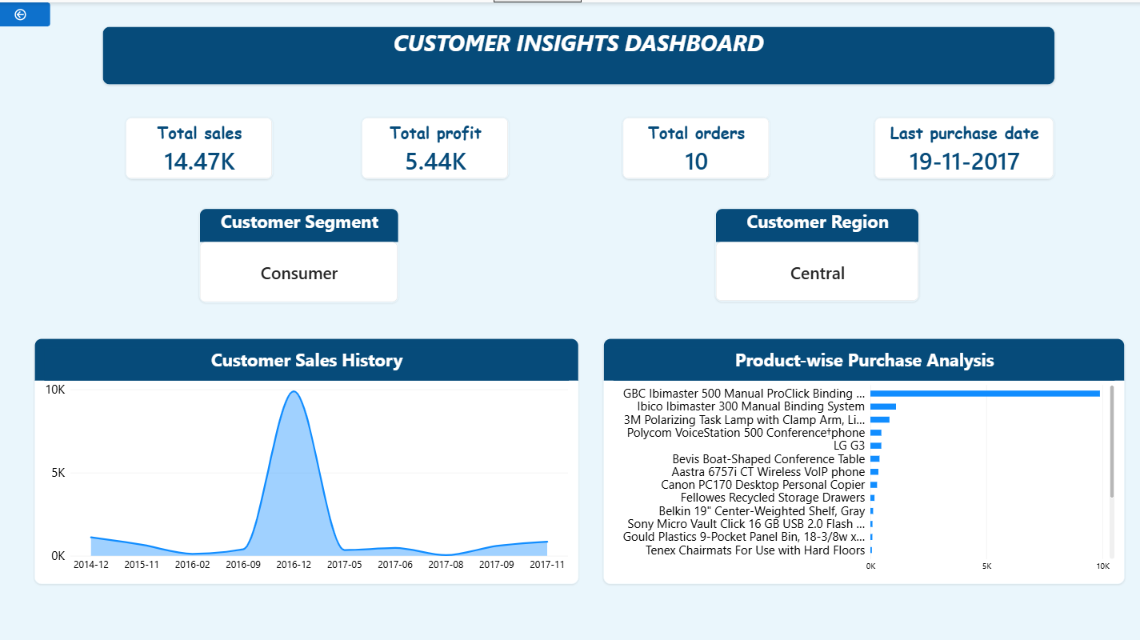

The page's visual inventory and layout, read from the dashboard file:
{"tool":"powerbi","page":{"name":"customer insights","canvas":[1920,1080],"ordinal":2},"visuals":[{"type":"actionButton","box":[0,0,100,40],"z":0},{"type":"textbox","box":[186.4,39.8,1590.7,97.7],"z":1},{"type":"cardVisual","fields":{"Data":["Superstore.Total sales"]},"box":[226.2,191.8,246.1,103.2],"z":2},{"type":"cardVisual","fields":{"Data":["Superstore.Total profit"]},"box":[618.9,191.8,246.1,103.2],"z":3},{"type":"cardVisual","fields":{"Data":["Superstore.Total orders"]},"box":[1055,191.8,246.1,103.2],"z":4},{"type":"cardVisual","fields":{"Data":["Date Table.Last purchase date"]},"box":[1476.7,191.8,300.4,103.2],"z":5},{"type":"lineChart","title":"Customer Sales History","fields":{"Category":["Date Table.Year-Month"],"Y":["Superstore.Total sales"]},"box":[74.2,561,908.4,410.8],"z":6},{"type":"clusteredBarChart","title":"Product-wise Purchase Analysis","fields":{"Category":["Superstore.Product Name"],"Y":["Superstore.Total sales"]},"box":[1024.3,561,870.4,410.8],"z":7},{"type":"cardVisual","title":"Customer Segment","fields":{"Data":["Min(Superstore.Segment)"]},"box":[349.3,343.8,333,157.4],"z":8},{"type":"cardVisual","title":"Customer Region","fields":{"Data":["Min(Superstore.Region)"]},"box":[1210.7,343.8,340.2,155.6],"z":9}]}

Visuals, with their boxes in screenshot pixels (x1, y1, x2, y2), scaled from the page's 1920x1080 canvas onto the 1140x640 screenshot:
actionButton: bbox(0, 0, 59, 24)
textbox: bbox(111, 24, 1055, 81)
cardVisual - Superstore.Total sales: bbox(134, 114, 280, 175)
cardVisual - Superstore.Total profit: bbox(367, 114, 514, 175)
cardVisual - Superstore.Total orders: bbox(626, 114, 773, 175)
cardVisual - Date Table.Last purchase date: bbox(877, 114, 1055, 175)
"Customer Sales History" lineChart: bbox(44, 332, 583, 576)
"Product-wise Purchase Analysis" clusteredBarChart: bbox(608, 332, 1125, 576)
"Customer Segment" cardVisual: bbox(207, 204, 405, 297)
"Customer Region" cardVisual: bbox(719, 204, 921, 296)
